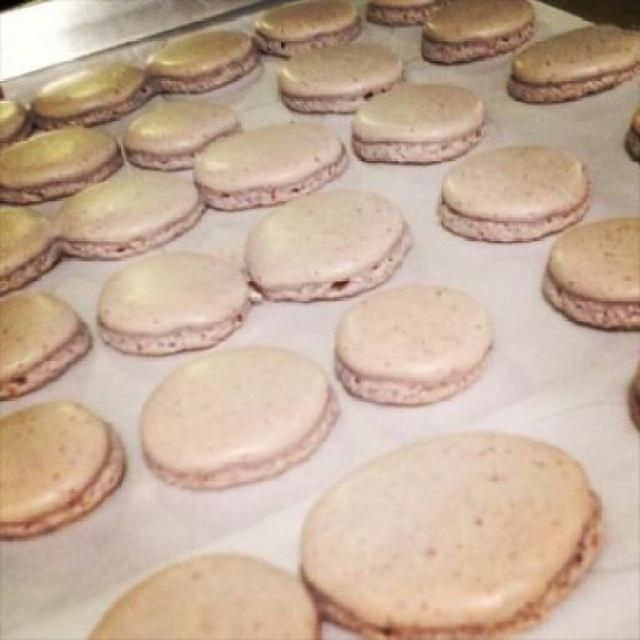Pancake: (12, 392, 116, 540)
